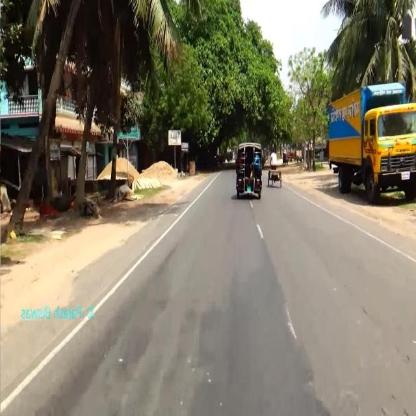truck: (326, 84, 414, 197)
